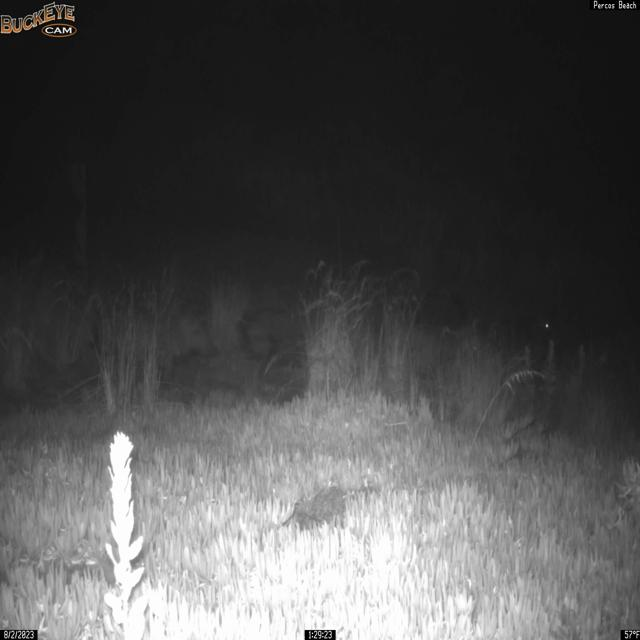pig: (106, 308, 220, 383)
